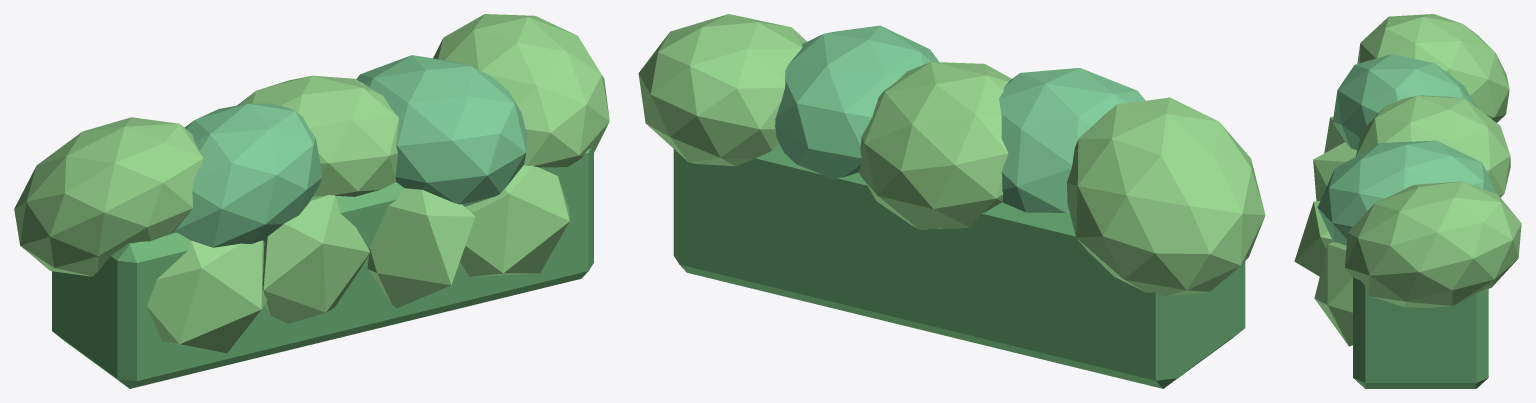
The model's file is env_bush_long_01.glb.
The picture shows the model from 3 angles, left to right: view 1: azimuth 30°, elevation 25°; view 2: azimuth 150°, elevation 25°; view 3: azimuth 270°, elevation 25°; orthographic projection. The views are drawn at different scales.
Visible parts, largest first — view 1: env_bush_long_01_body; view 2: env_bush_long_01_body; view 3: env_bush_long_01_body.
Boxes of the visible parts, x1=… form: env_bush_long_01_body: x1=14, y1=14, x2=609, y2=388; env_bush_long_01_body: x1=638, y1=14, x2=1265, y2=388; env_bush_long_01_body: x1=1294, y1=14, x2=1521, y2=388.
Size of the model in its own units: 2.25 by 0.8784 by 0.9209.
